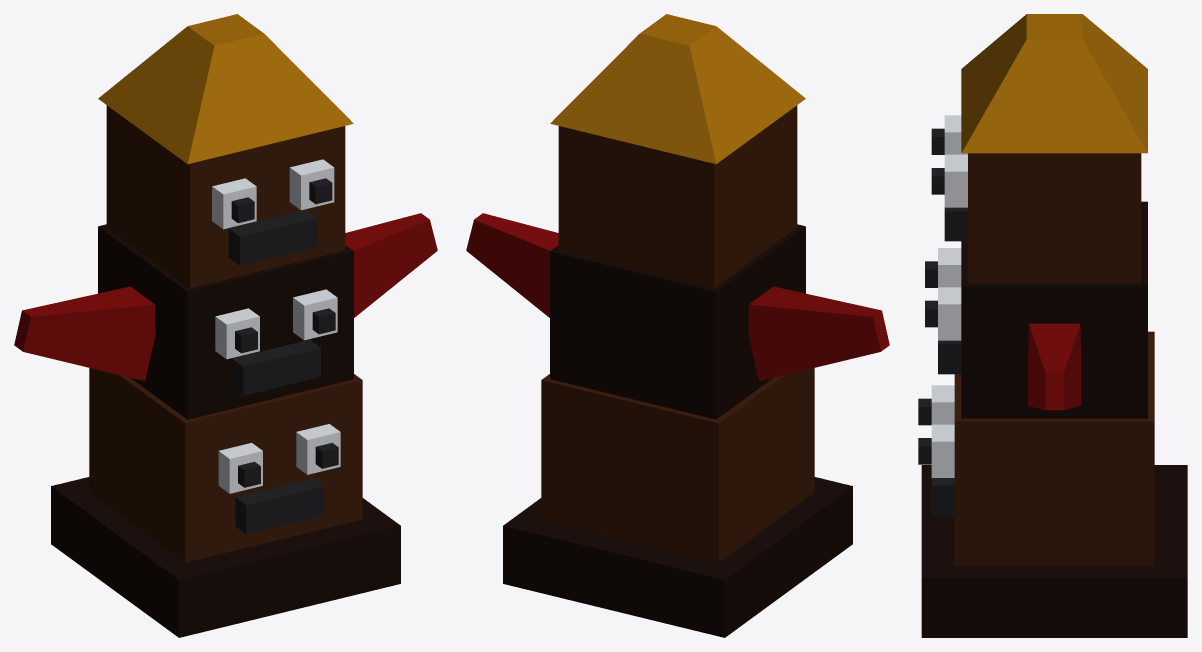
Rendered from TotemClan_low.fbx.
The picture shows the model from 3 angles, left to right: view 1: azimuth 30°, elevation 25°; view 2: azimuth 150°, elevation 25°; view 3: azimuth 270°, elevation 25°; orthographic projection. The views are drawn at different scales.
Visible parts, largest first — view 1: TotemClan_low; view 2: TotemClan_low; view 3: TotemClan_low.
Boxes of the visible parts, x1,y1,x2,y2 form: TotemClan_low: (14,14,437,637); TotemClan_low: (466,14,889,637); TotemClan_low: (918,14,1187,637).
Size of the model in its own units: 74.76 by 92 by 40.5.
